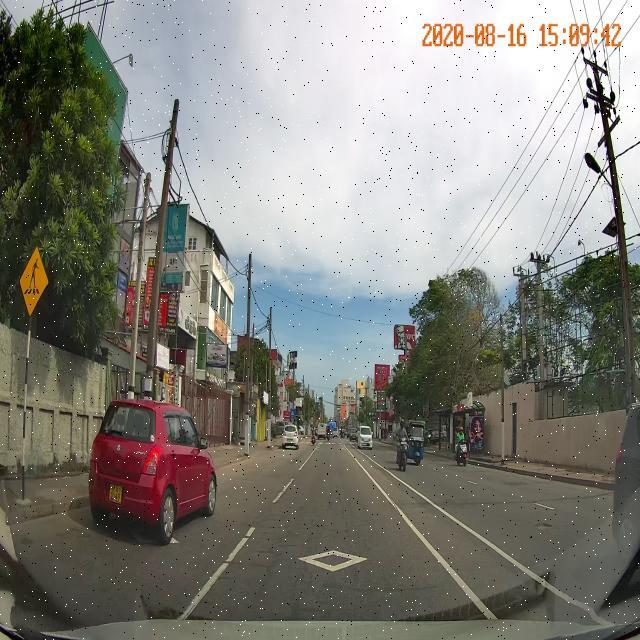diamond: (200, 536, 467, 583)
